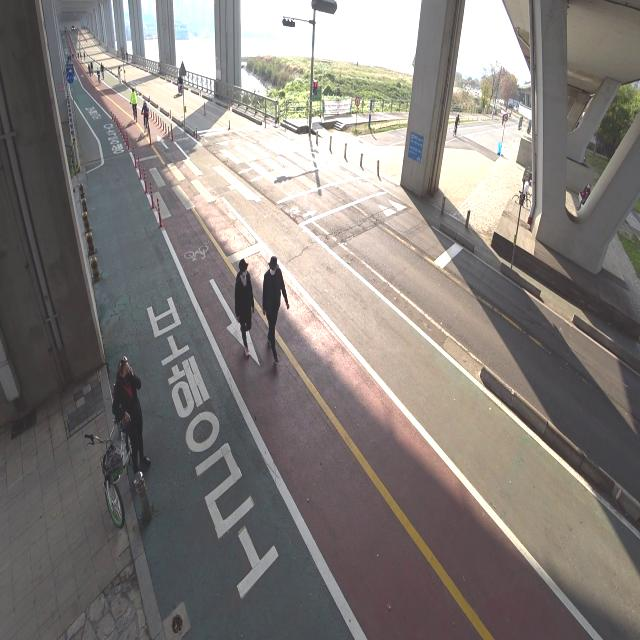Motorcycle: (176, 72, 184, 98)
